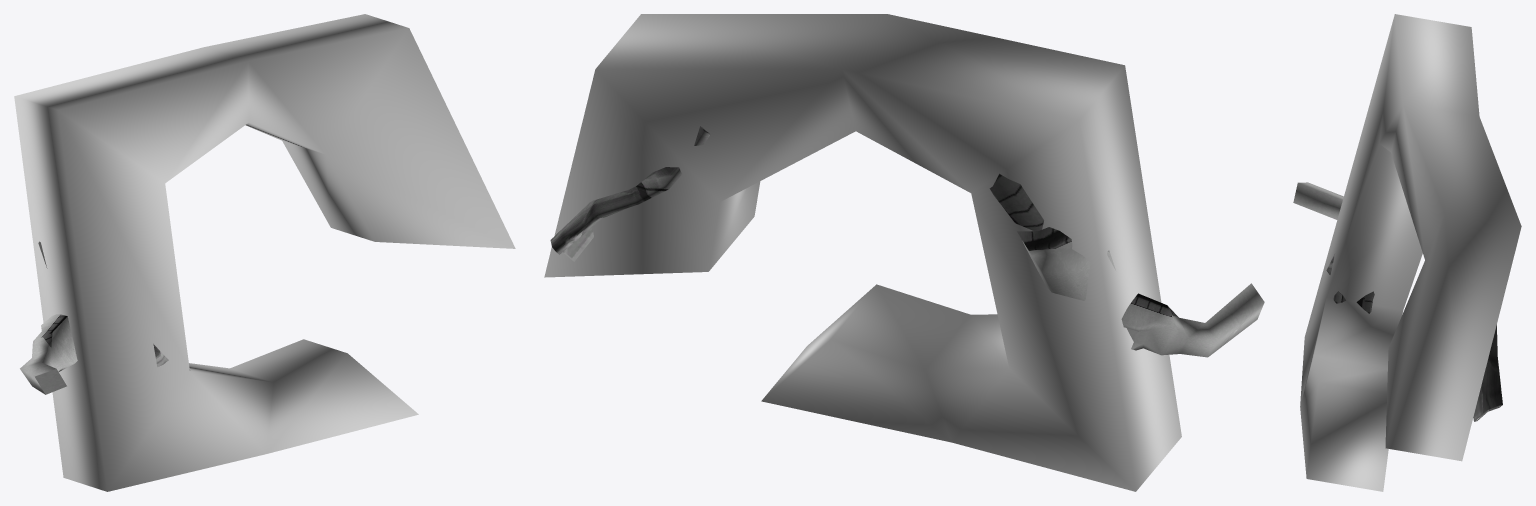
The model's file is r_thruster_damaged.fbx.
The picture shows the model from 3 angles, left to right: view 1: azimuth 30°, elevation 25°; view 2: azimuth 150°, elevation 25°; view 3: azimuth 270°, elevation 25°; orthographic projection. The views are drawn at different scales.
Visible parts, largest first — view 1: 0000_r_thruster_damaged, 0001_r_thruster_damaged; view 2: 0000_r_thruster_damaged, 0001_r_thruster_damaged; view 3: 0000_r_thruster_damaged, 0001_r_thruster_damaged.
Boxes of the visible parts, x1=… form: 0000_r_thruster_damaged: x1=14, y1=14, x2=515, y2=491; 0001_r_thruster_damaged: x1=20, y1=241, x2=168, y2=394; 0000_r_thruster_damaged: x1=544, y1=14, x2=1181, y2=491; 0001_r_thruster_damaged: x1=550, y1=126, x2=1264, y2=357; 0000_r_thruster_damaged: x1=1300, y1=14, x2=1521, y2=491; 0001_r_thruster_damaged: x1=1293, y1=182, x2=1502, y2=421.
Bounding box in the file's own units: 10.03 × 6.63 × 4.07.
